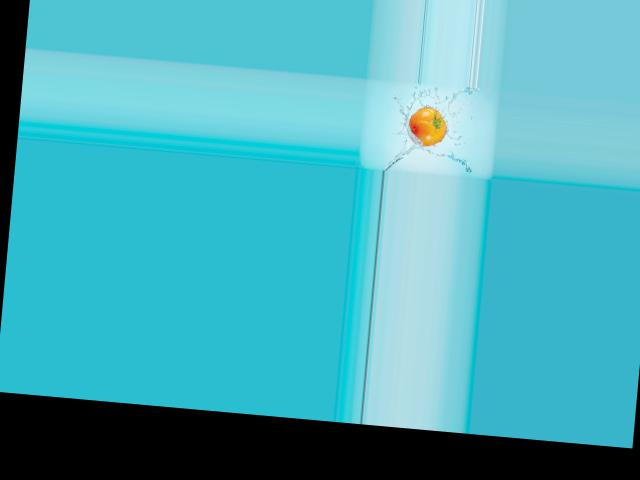tomato: (406, 104, 448, 147)
